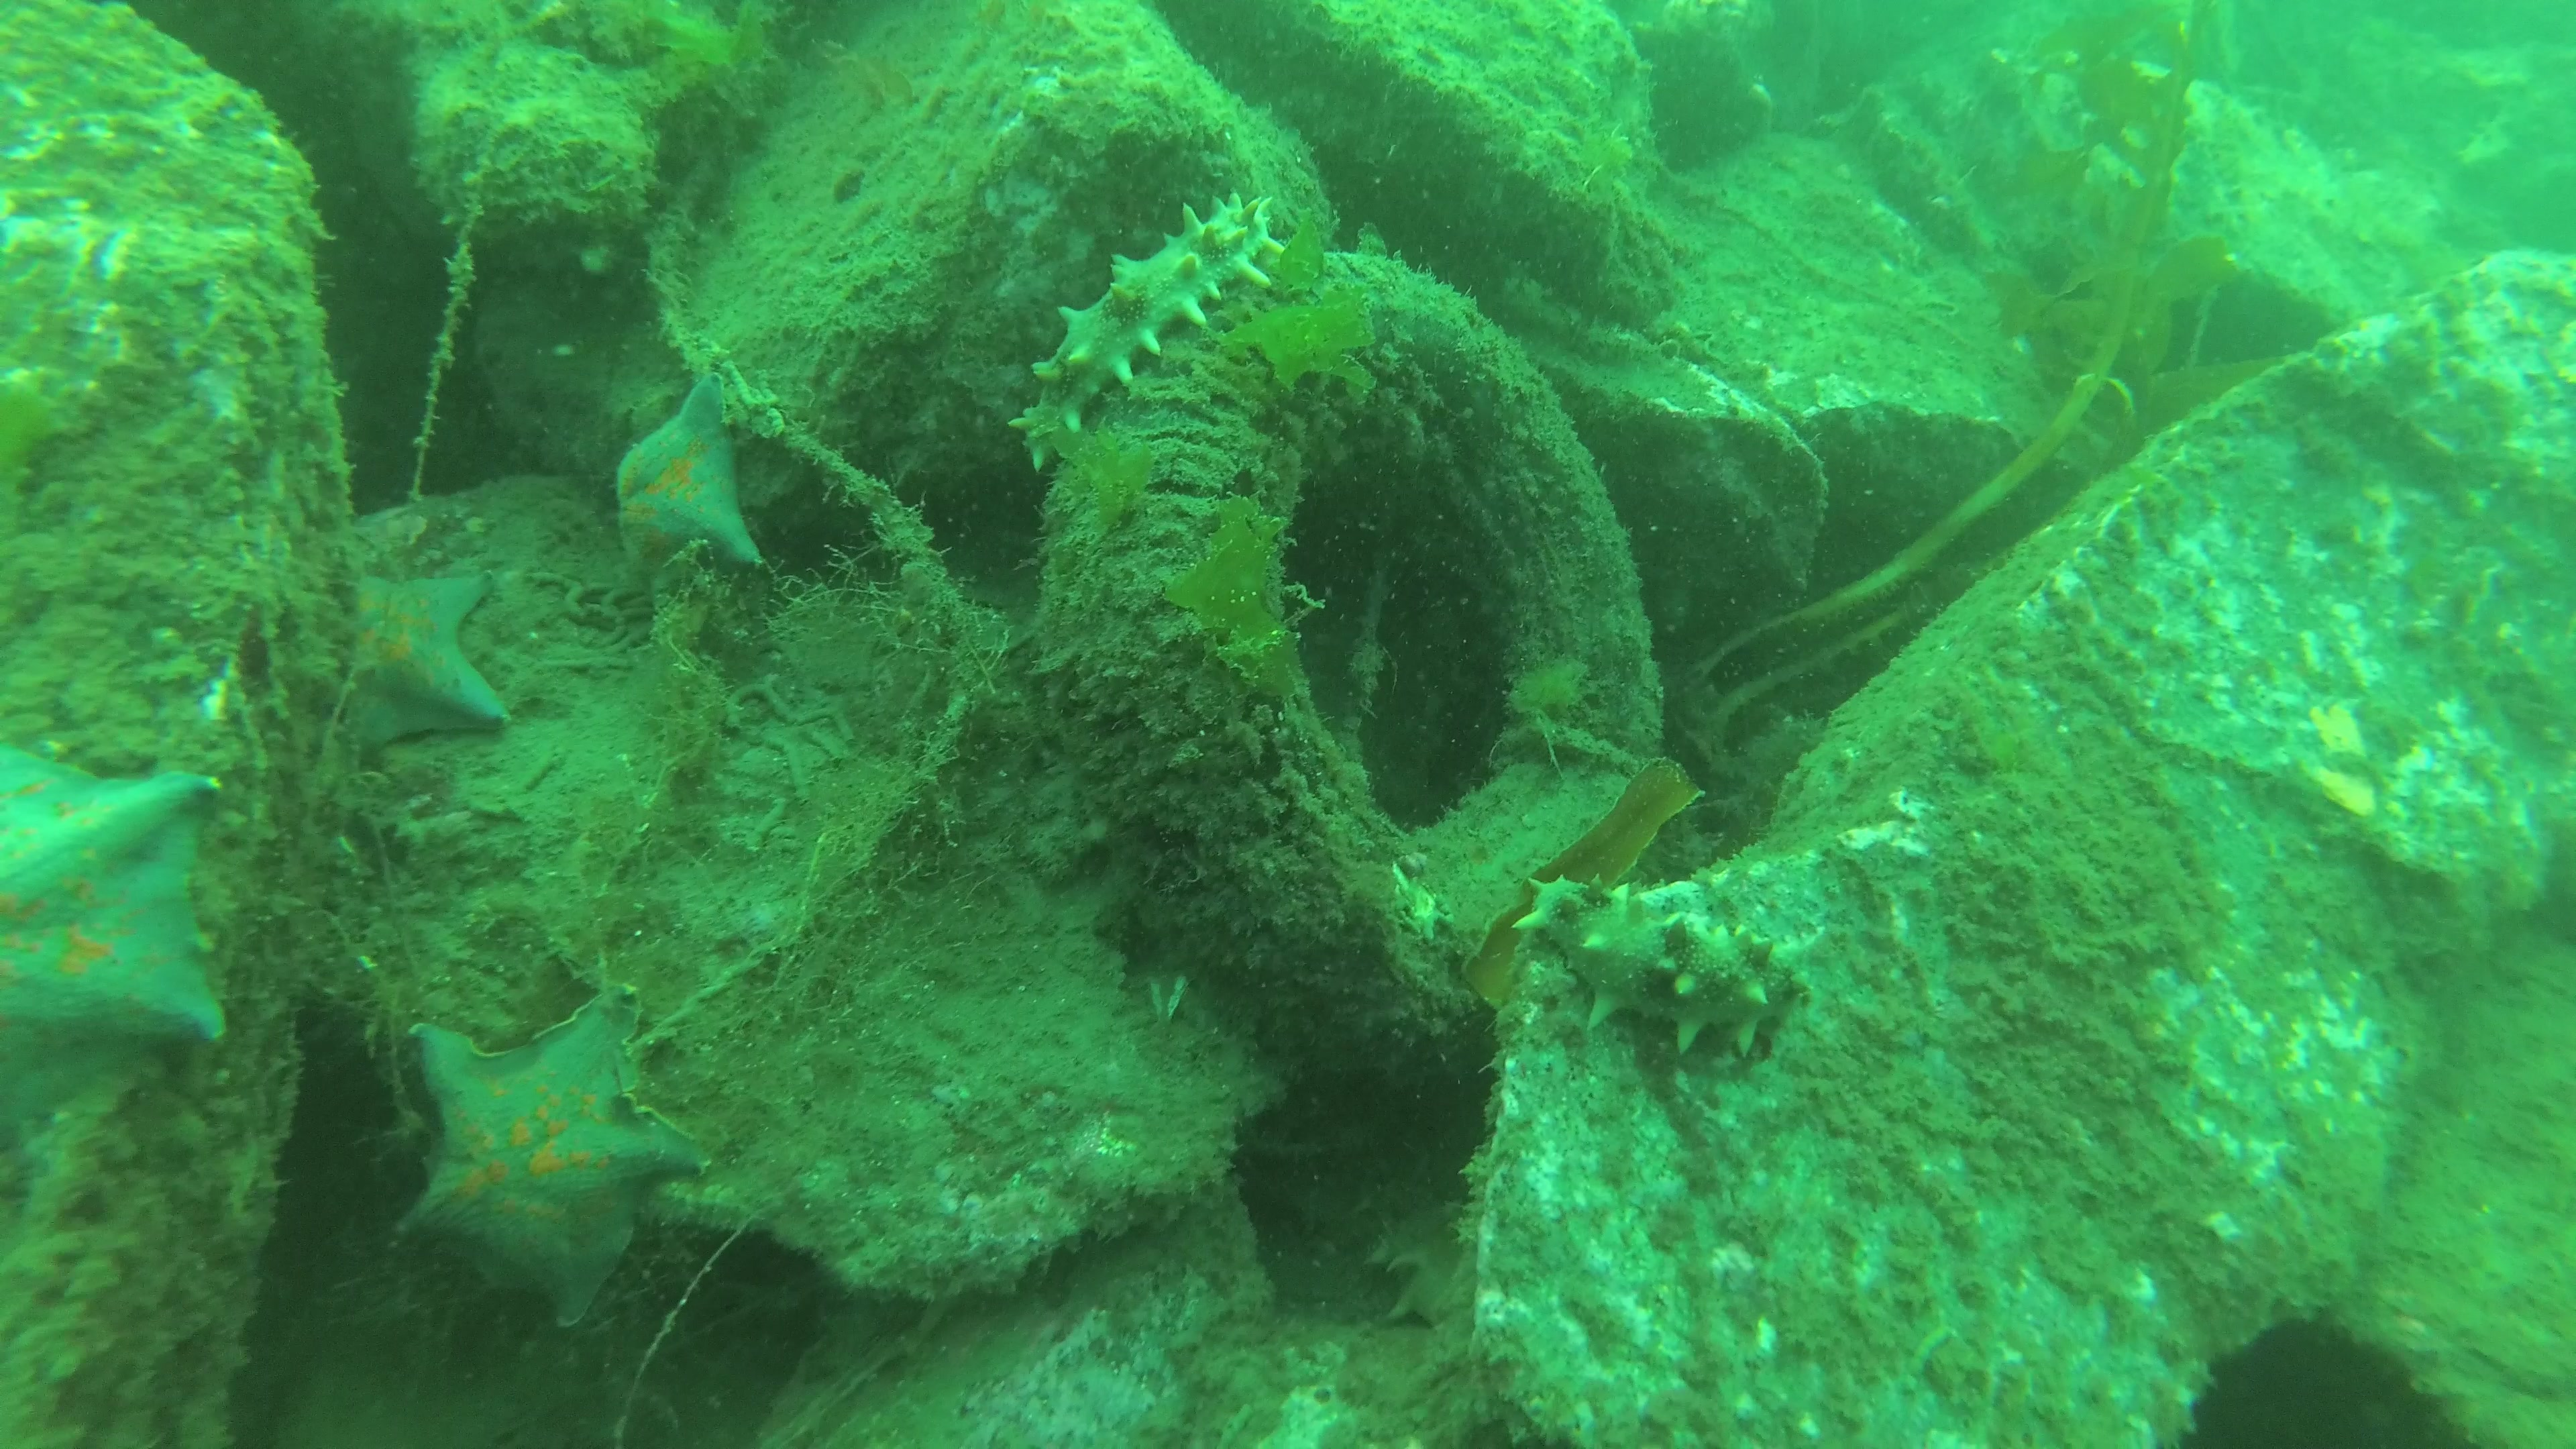holothurian: (1017, 184, 1293, 469), (1513, 872, 1835, 1065), (1353, 1161, 1522, 1346)
starfish: (387, 989, 708, 1341), (0, 748, 232, 1093), (303, 563, 524, 736), (598, 380, 766, 586)
